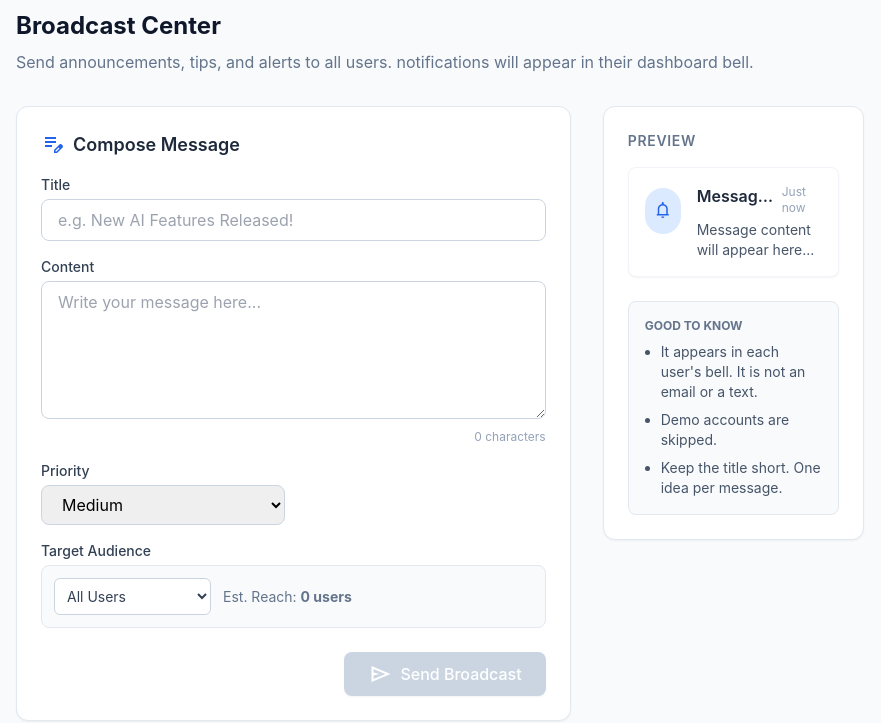
AdminBroadcastPage › shows an error when the server refuses
This screenshot has width=881, height=723.
Type "Hello" into the field with placeholder "e.g. New AI Features Released!" at (293, 220), box [41,199,546,241]
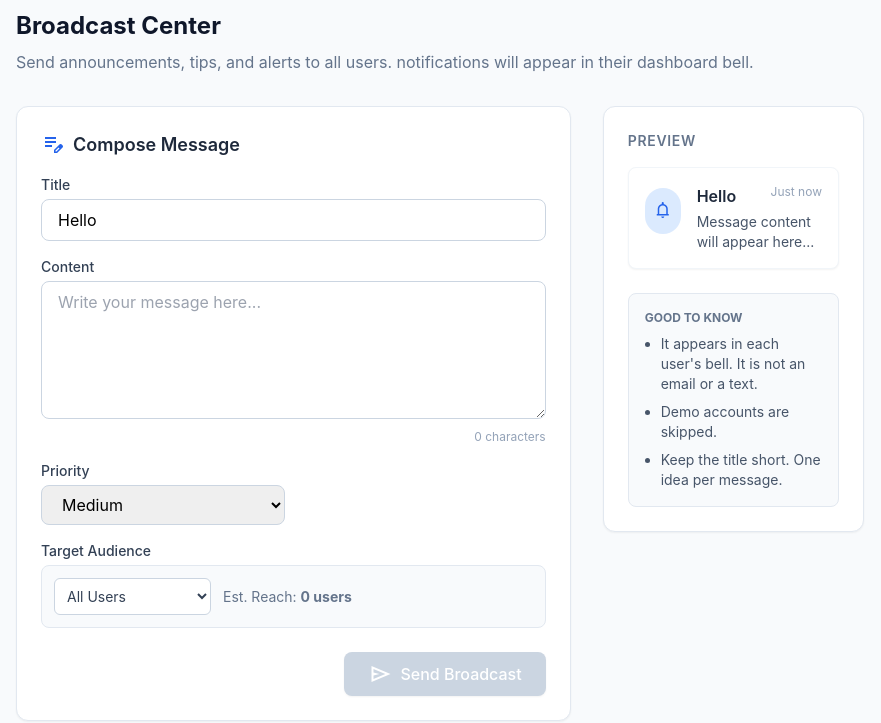
Type "World" into the text box with placeholder "Write your message here..." at (293, 350), box [41,281,546,419]
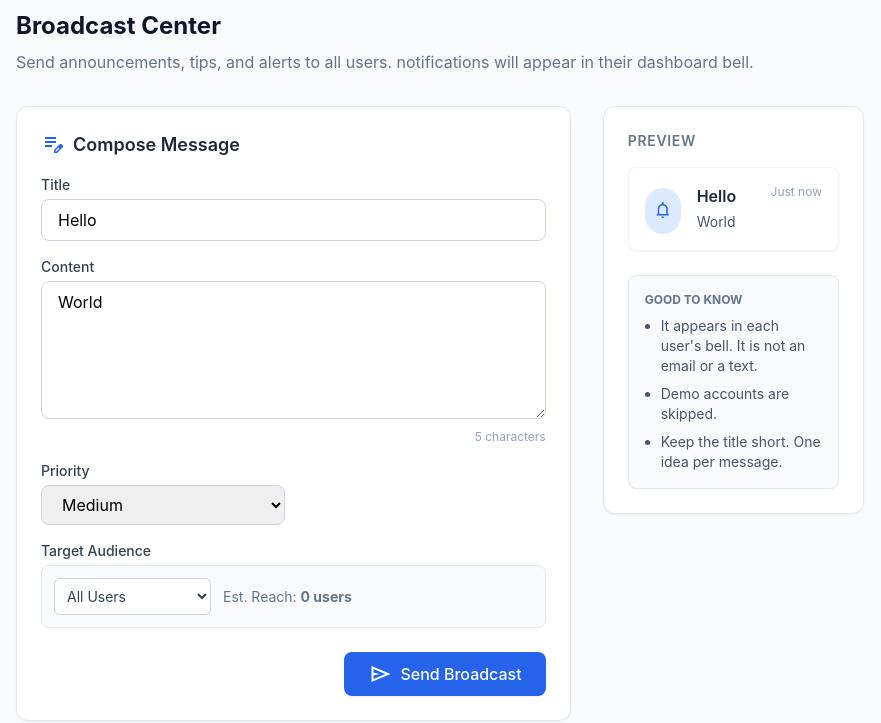
Click the button "Send Broadcast" at (445, 674), box [344,652,546,696]
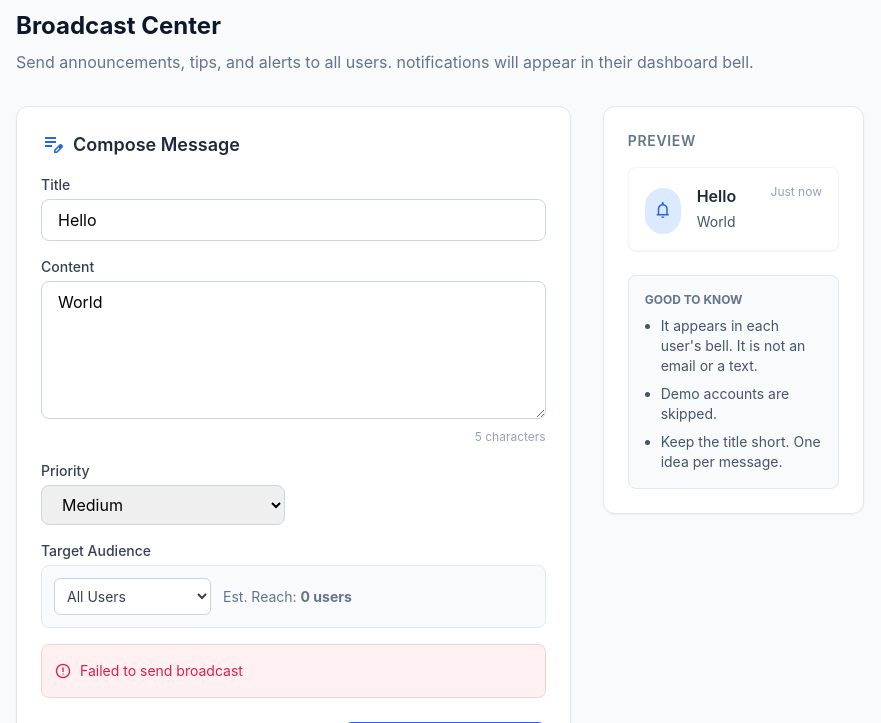
Expected: the text "Failed to send broadcast" is shown, [41,644,546,698]
